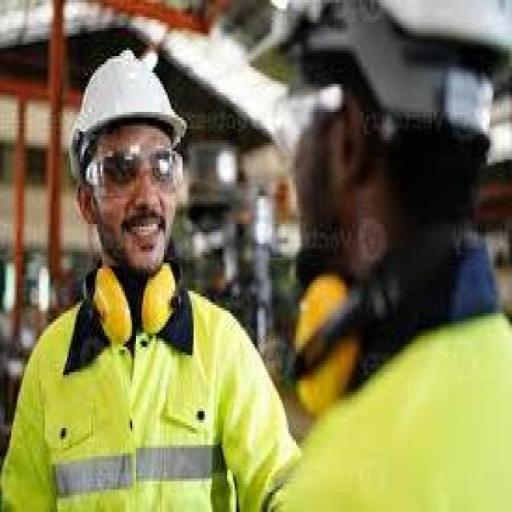helmet: (248, 4, 512, 226), (61, 48, 190, 160)
vest: (0, 265, 266, 506), (269, 304, 512, 509)
